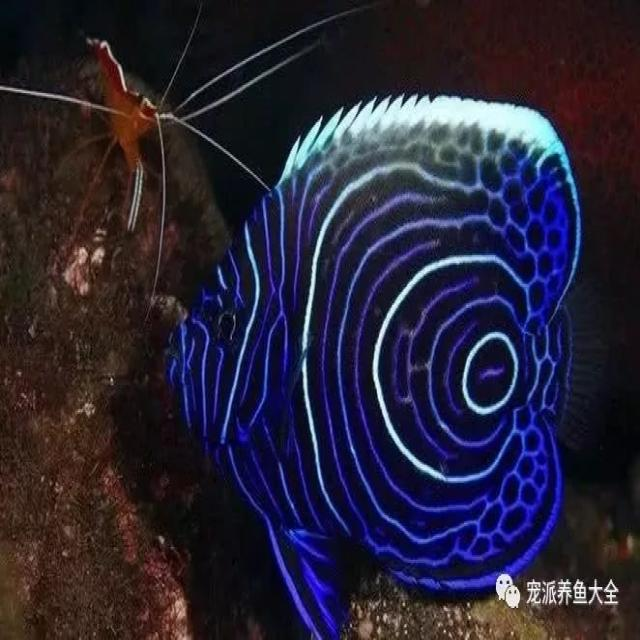AngelFish: (170, 92, 580, 640)
